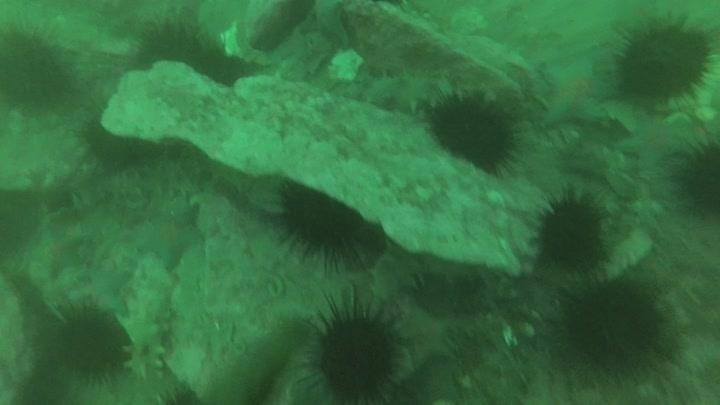echinus: (556, 273, 672, 380), (304, 297, 407, 403), (611, 14, 716, 108), (273, 181, 376, 271), (424, 88, 520, 174), (44, 300, 133, 385), (532, 191, 610, 274), (1, 24, 73, 112), (132, 18, 219, 87), (408, 267, 491, 320), (672, 133, 720, 221), (79, 112, 145, 172)
holothurian: (119, 256, 175, 382), (354, 68, 454, 116), (367, 247, 423, 310)
starfish: (536, 54, 614, 131), (133, 200, 204, 272), (614, 114, 694, 176), (395, 304, 455, 370), (25, 222, 88, 280), (72, 262, 135, 320)
